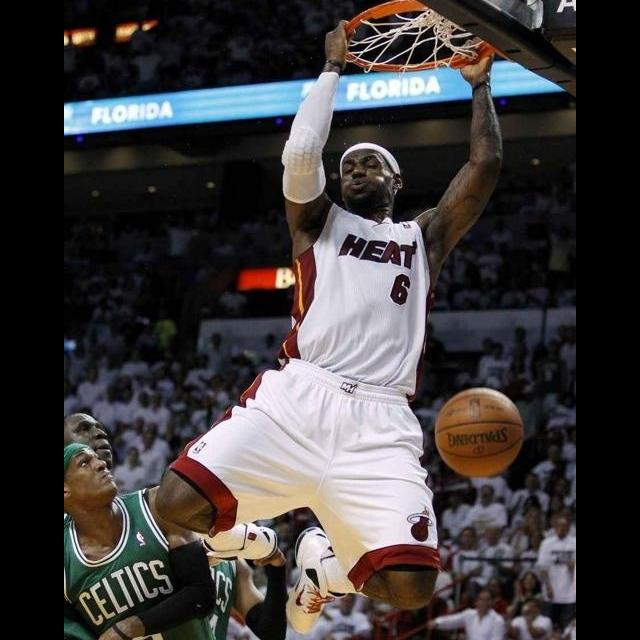basketball: (433, 387, 524, 478)
hoop: (340, 0, 485, 72)
